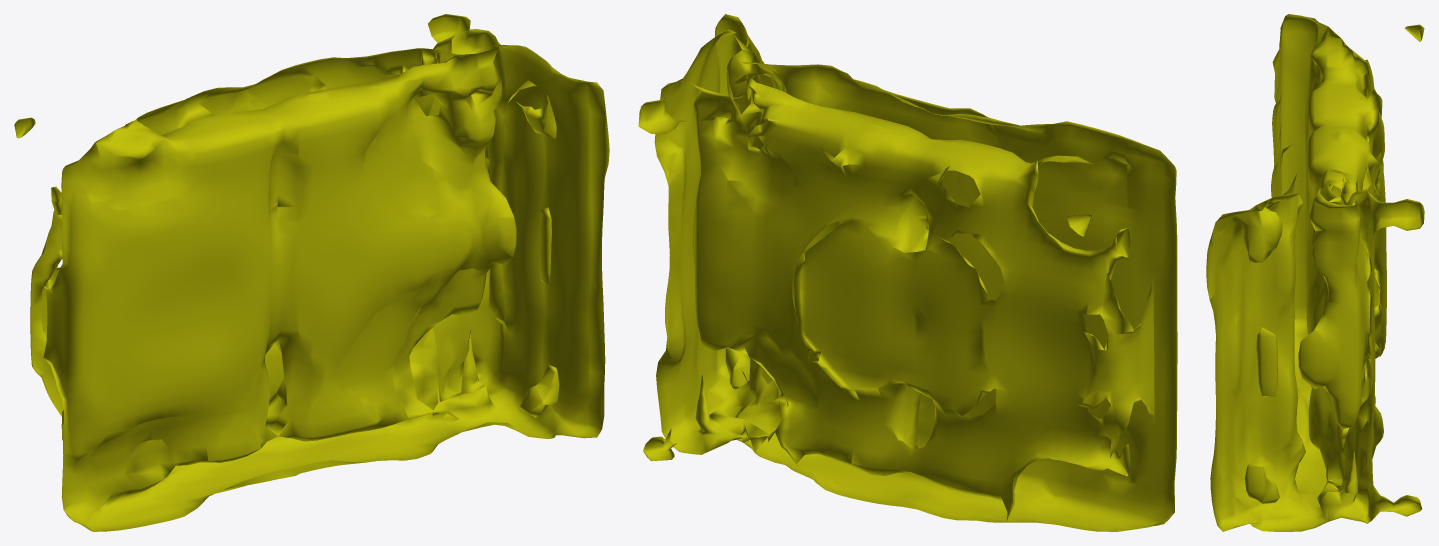
3 views of the same model, side by side, from view 1: azimuth 30°, elevation 25°; view 2: azimuth 150°, elevation 25°; view 3: azimuth 270°, elevation 25° (orthographic). The views are drawn at different scales.
Visible parts, largest first — view 1: world; view 2: world; view 3: world.
Boxes of the visible parts, left/top/right/bottom form: world: left=14, top=14, right=609, bottom=531; world: left=638, top=14, right=1177, bottom=531; world: left=1206, top=14, right=1424, bottom=531.
Bounding box in the file's own units: 38.22 × 28.33 × 16.61.
